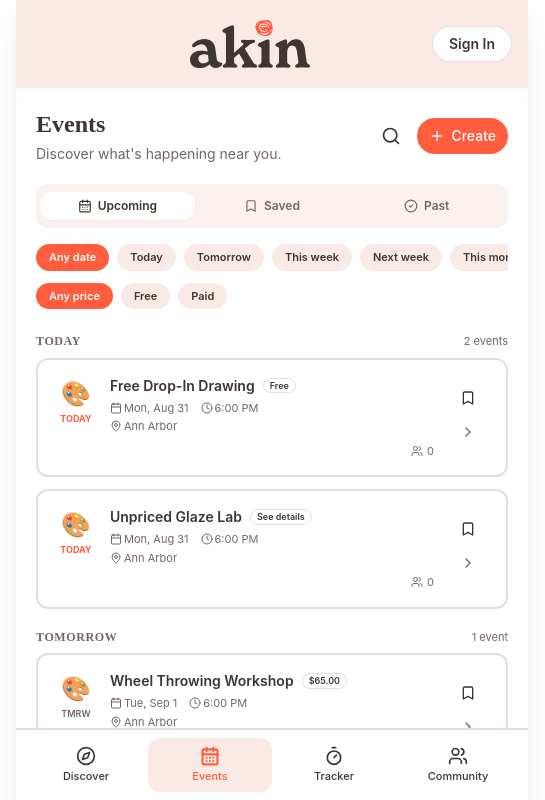
Test: /events browse filters › filters to free classes and says what it held back
The width and height of the screenshot is (545, 800).
What coordinates should you click on to do the following:
click the button "Free"
I would click on:
 (146, 296)
Its box is [121, 282, 170, 309].
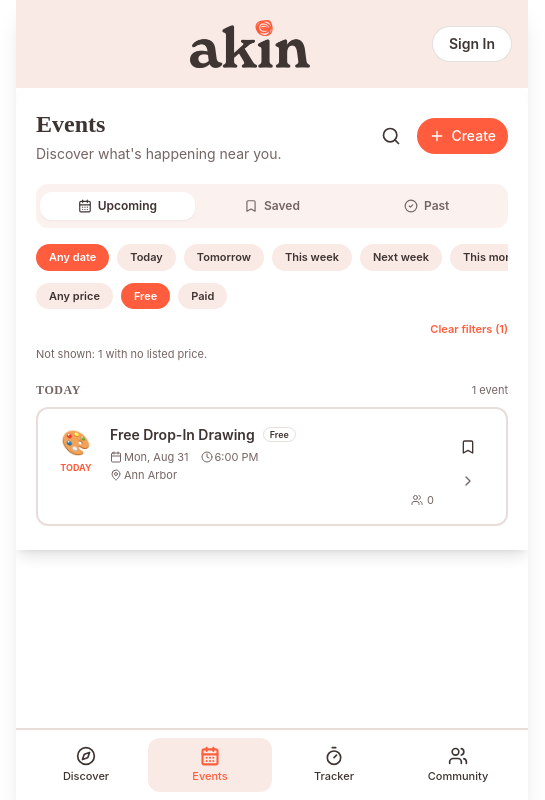
Result: the link "Wheel Throwing Workshop" is gone
Result: the link "Unpriced Glaze Lab" is gone
Result: the text "Not shown: 1 with no listed price." is shown at [36, 346, 207, 360]
